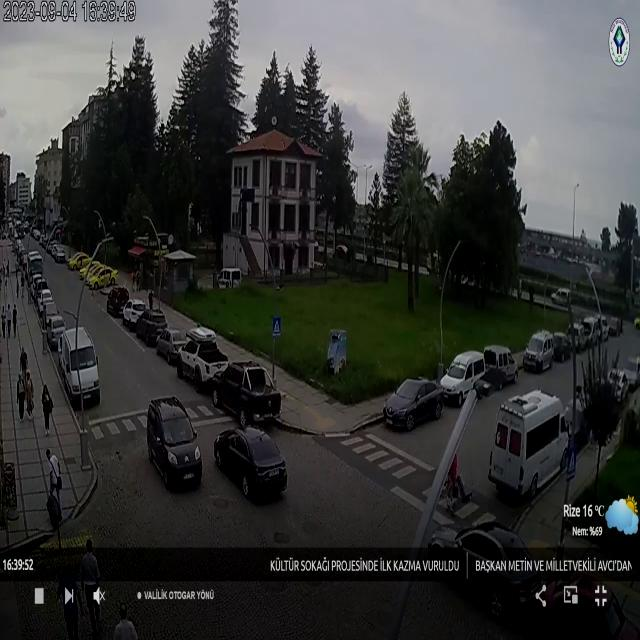Car: (428, 520, 542, 620), (534, 575, 630, 639), (214, 428, 292, 504), (146, 397, 202, 489), (211, 361, 282, 426), (384, 377, 446, 431), (177, 340, 230, 391), (440, 350, 488, 405), (482, 345, 518, 387), (156, 328, 191, 363), (135, 309, 169, 345), (610, 356, 640, 396), (44, 315, 67, 350), (122, 298, 148, 328), (550, 332, 572, 362), (550, 288, 571, 306)
Van: (485, 388, 574, 492), (54, 320, 103, 410)
